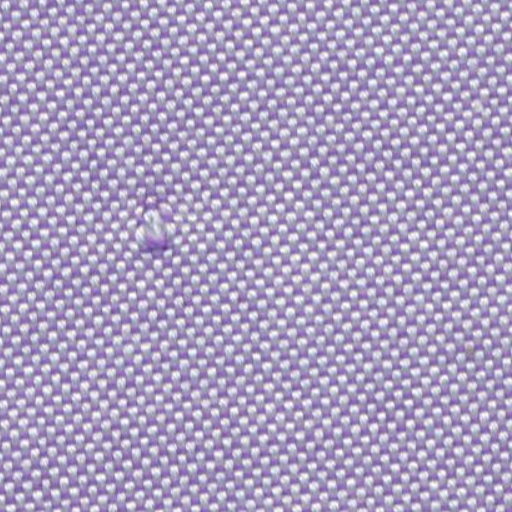MianQiu: (108, 199, 200, 271)
